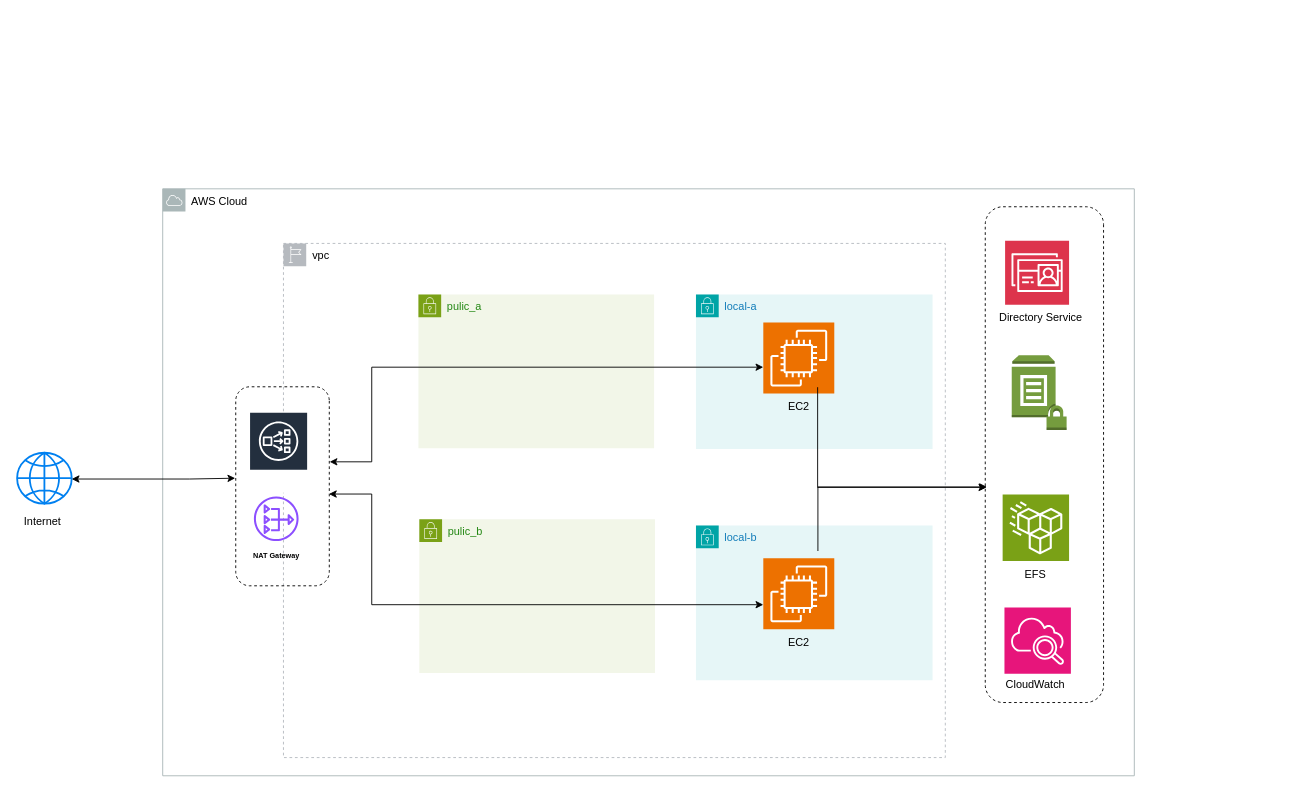
Image size: 1310x792. Some labels were removed from this diagram. The shapes that lost their labels are listed below. From the top down, each one's centre as x and y in pixels, then its label:
At (x=278, y=452): "NLB".
At (x=1044, y=454): "Paramater Store".
